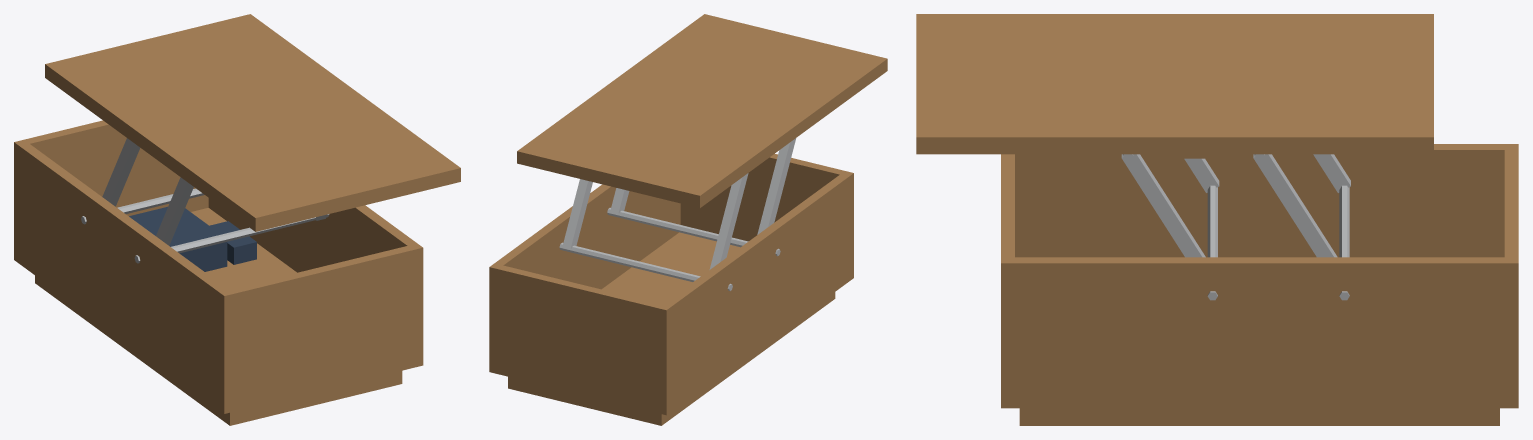
File: FN_Table_Lift.glb
3 views of the same model, side by side, from view 1: azimuth 30°, elevation 25°; view 2: azimuth 150°, elevation 25°; view 3: azimuth 270°, elevation 25° (orthographic). The views are drawn at different scales.
Parts seen in each view (by area): view 1: FN_Table_Lift; view 2: FN_Table_Lift; view 3: FN_Table_Lift.
Boxes of the visible parts, x1,y1,x2,y2 form: FN_Table_Lift: [14, 14, 460, 425]; FN_Table_Lift: [489, 14, 887, 425]; FN_Table_Lift: [916, 14, 1518, 425].
Size of the model in its own units: 0.62 by 0.7 by 1.28.
Materials: 1 (1 with a texture image).
